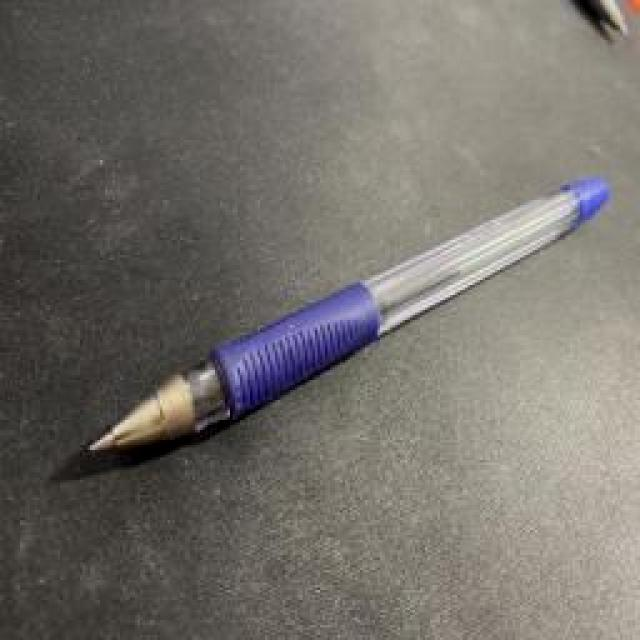pen: (82, 168, 610, 462)
